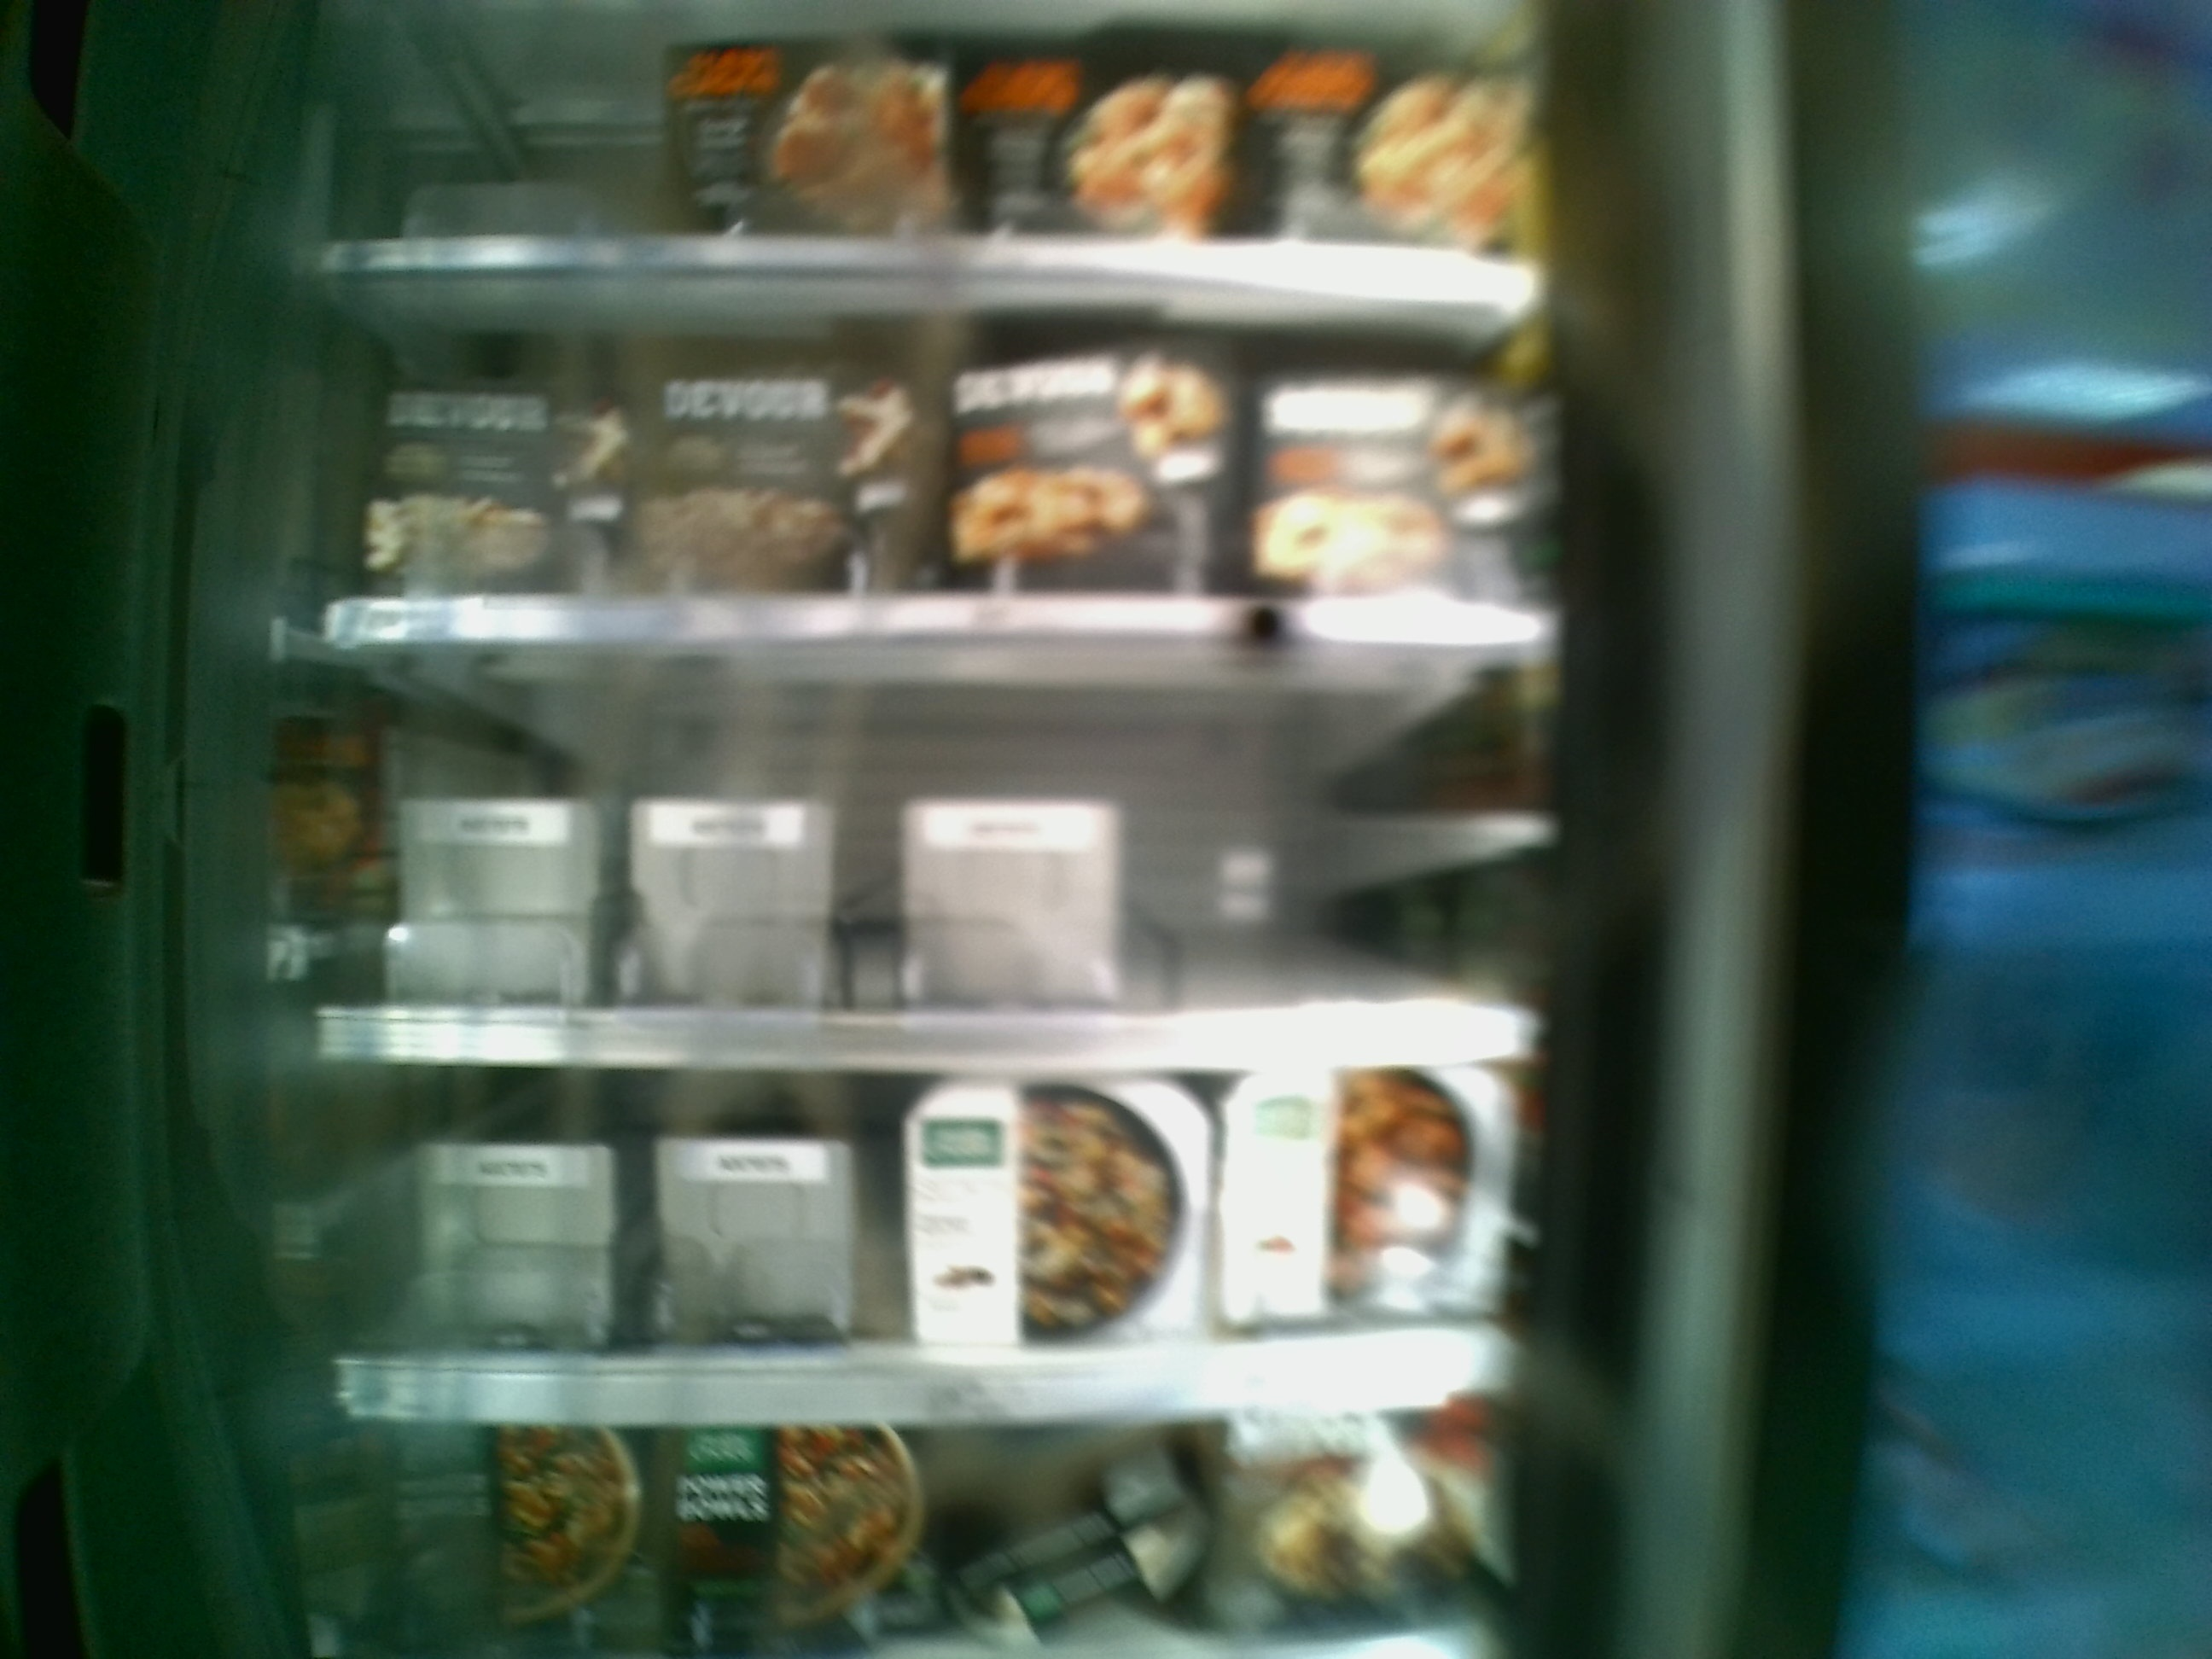Shelf: (331, 647, 1533, 1065), (308, 275, 1543, 652), (314, 1060, 1524, 1413)
